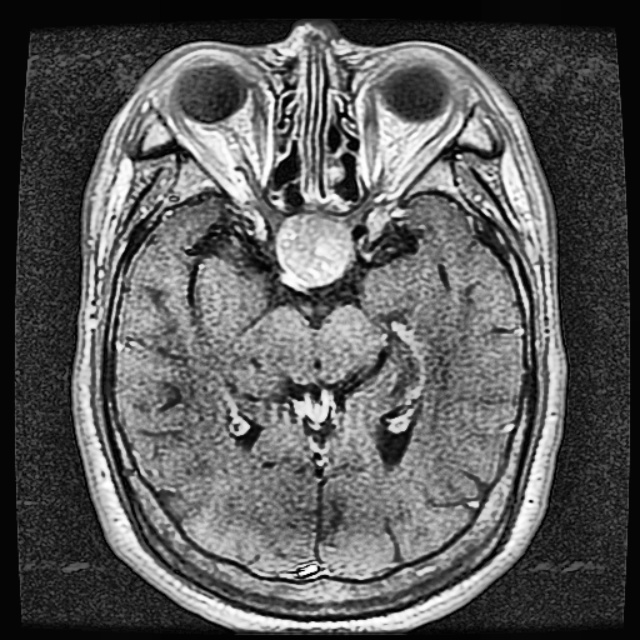Pituitary: (278, 213, 353, 284)
